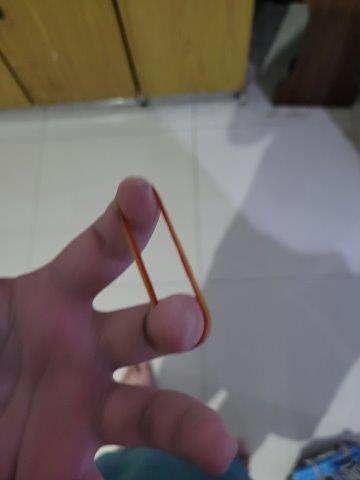karet: (115, 178, 210, 345)
